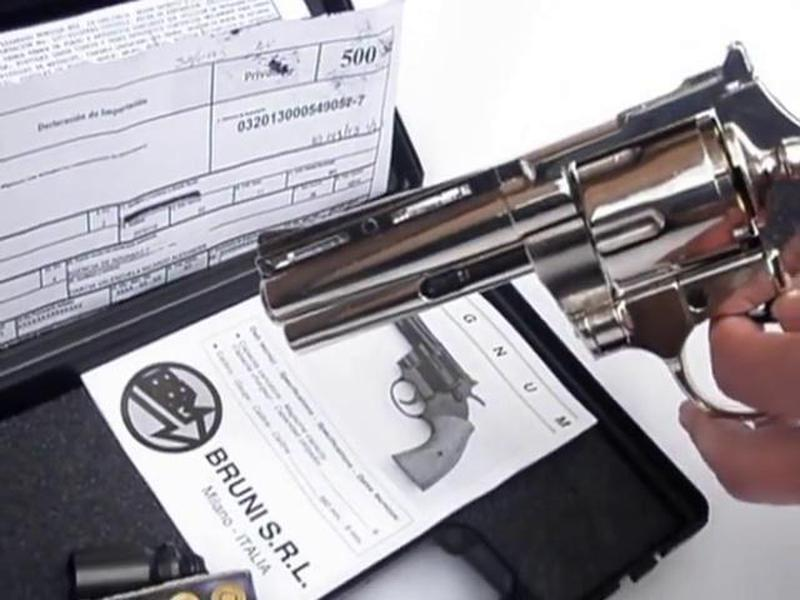Revolver: (256, 42, 800, 403)
